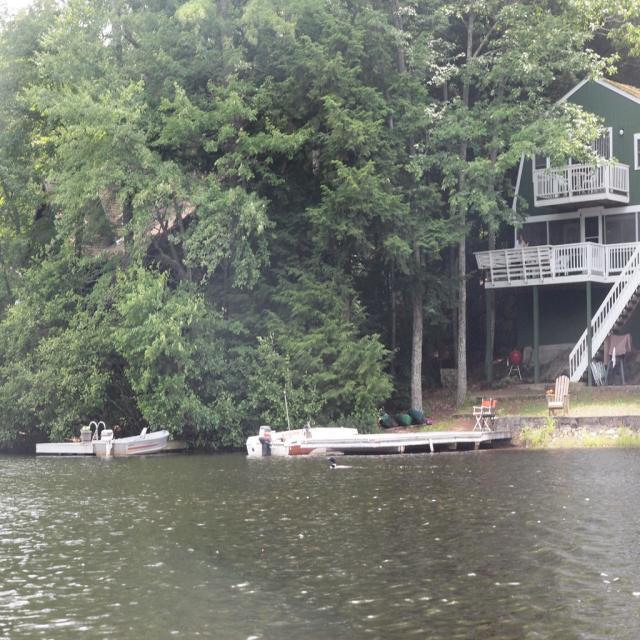Boat: (244, 386, 511, 459), (41, 411, 189, 467)
